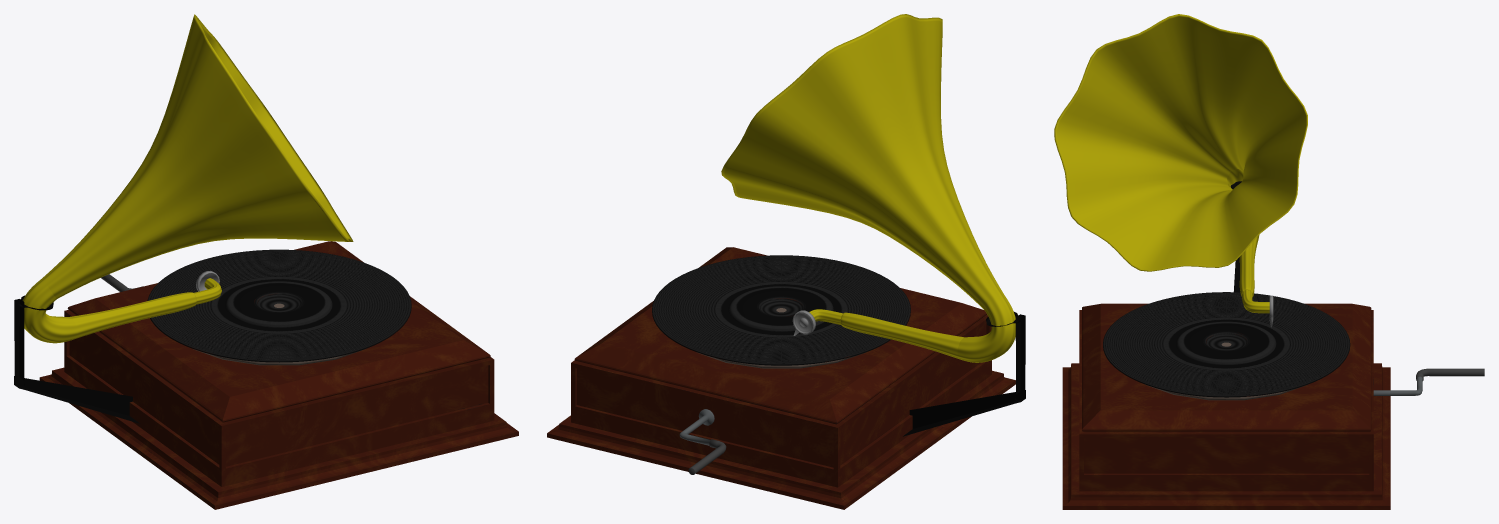
File: Gramophone.glb
3 renders of one model, left to right at view 1: azimuth 30°, elevation 25°; view 2: azimuth 150°, elevation 25°; view 3: azimuth 270°, elevation 25°, orthographic. The views are drawn at different scales.
Visible parts, largest first — view 1: Old Recorder.001; view 2: Old Recorder.001; view 3: Old Recorder.001.
Part boxes in pixels (x1,y1,x2,y2): Old Recorder.001: (14,14,518,509); Old Recorder.001: (547,14,1025,509); Old Recorder.001: (1054,14,1484,509).
Size of the model in its own units: 2.98 by 2.87 by 2.93.
Materials: 7 (1 with a texture image).
